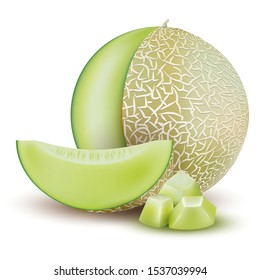Melon: (14, 135, 177, 213)
